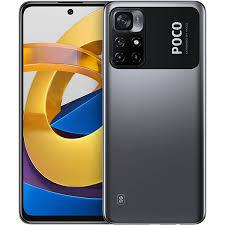Smartphone: (105, 0, 211, 223), (21, 2, 105, 225)
